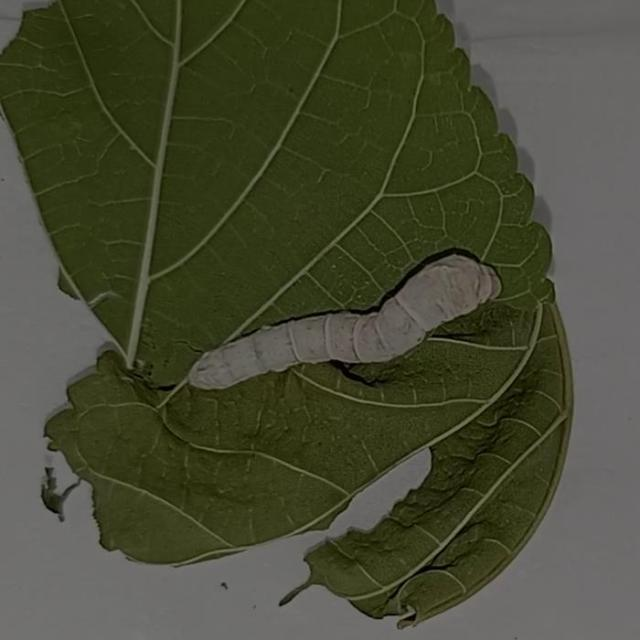Healthy: (172, 242, 514, 405)
